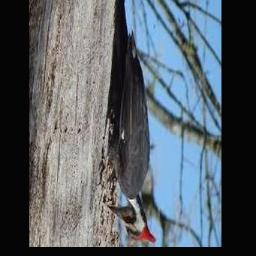Woodpecker: (105, 32, 156, 243)
